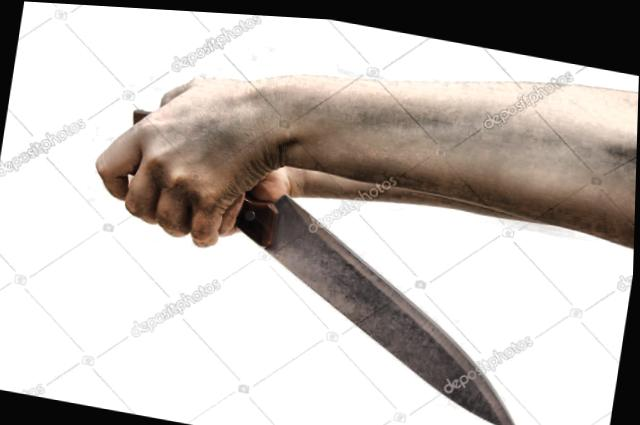knife: (65, 124, 566, 425)
